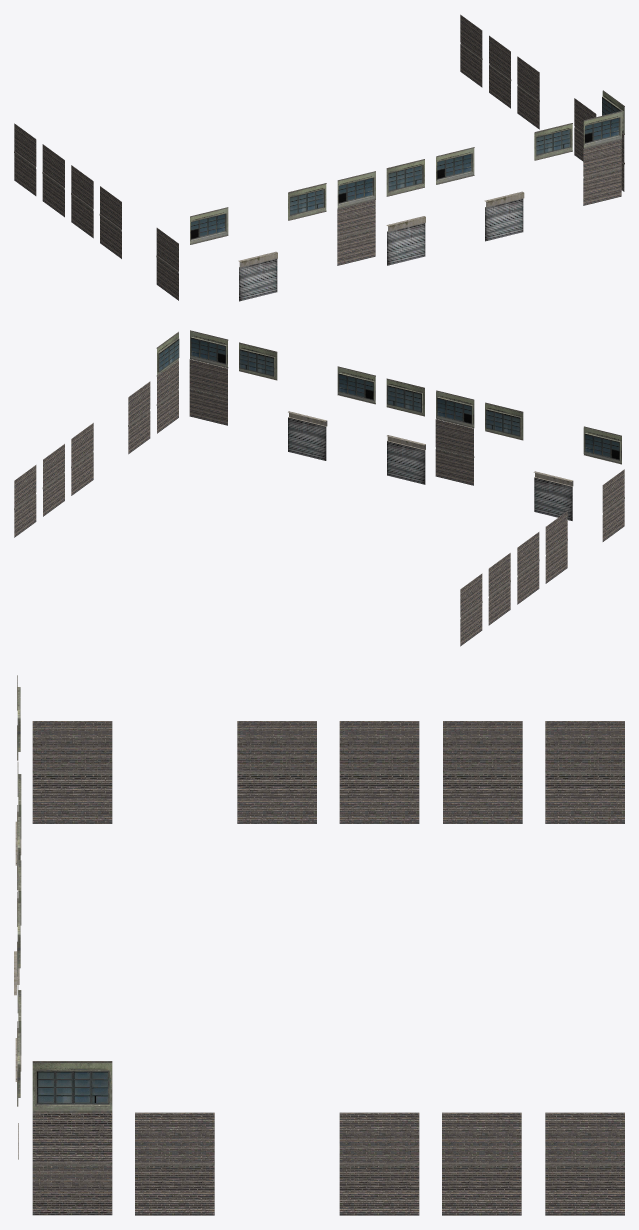
File: warehouse_building02_building01_2_0_lev1.glb
The picture shows the model from 3 angles, top to bottom: view 1: azimuth 30°, elevation 25°; view 2: azimuth 150°, elevation 25°; view 3: azimuth 270°, elevation 25°; orthographic projection. The views are drawn at different scales.
Parts seen in each view (by area): view 1: warehouse_building02_building01_2_0_lev1; view 2: warehouse_building02_building01_2_0_lev1; view 3: warehouse_building02_building01_2_0_lev1.
Part boxes in pixels (x1,y1,x2,y2): warehouse_building02_building01_2_0_lev1: (14, 14, 624, 301); warehouse_building02_building01_2_0_lev1: (14, 330, 624, 646); warehouse_building02_building01_2_0_lev1: (14, 675, 624, 1215).
Size of the model in its own units: 27.97 by 5.82 by 18.41.
Materials: 1 (1 with a texture image).
